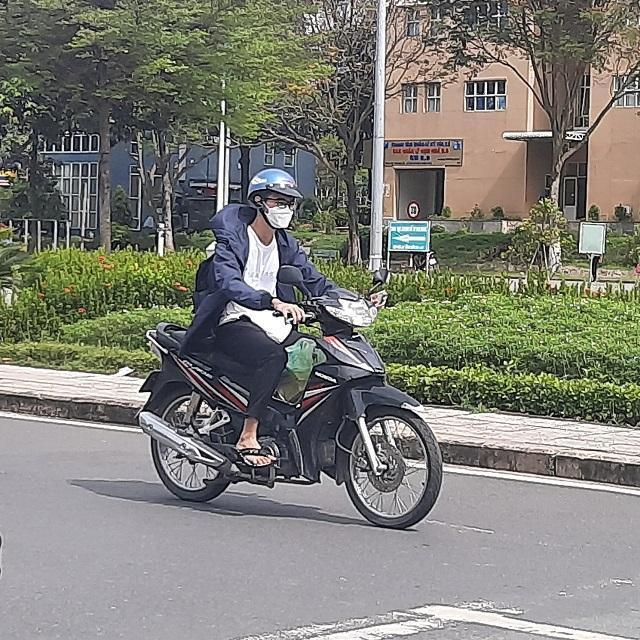Helmet: (245, 163, 303, 237)
